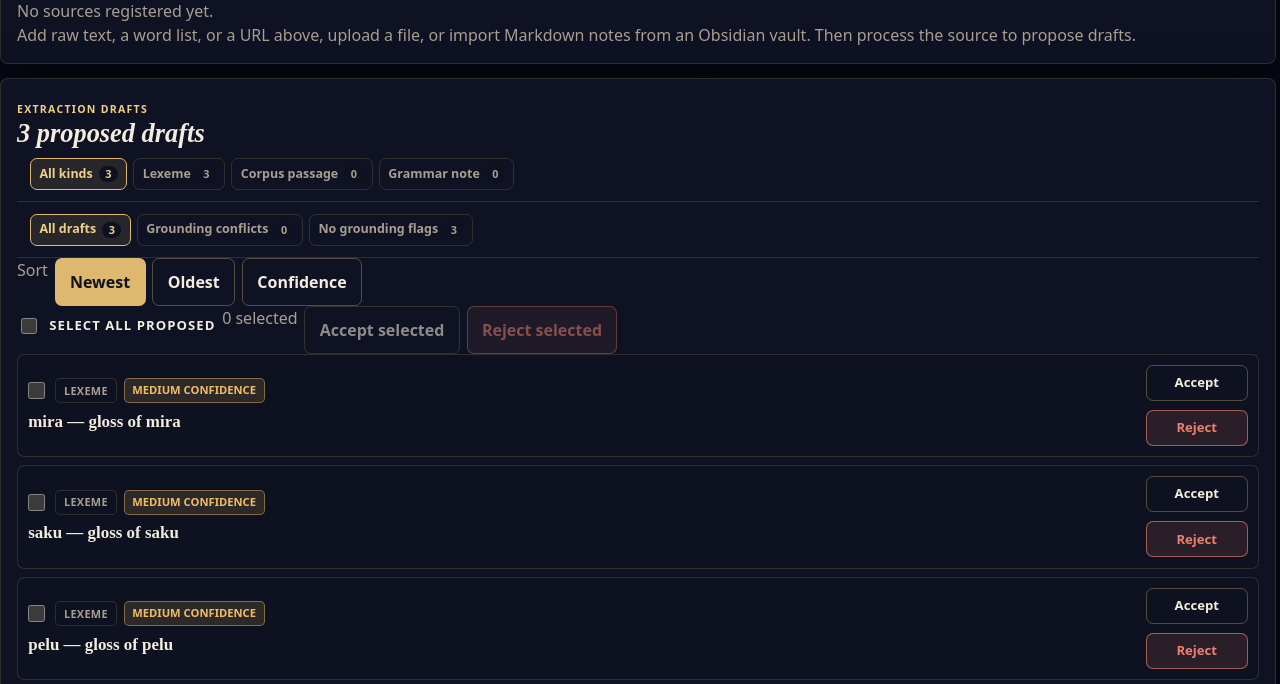
Test case: IngestView bulk draft review › localizes expired-session errors from bulk draft review instead of raw API text
(page scrolled)
Check: the heading "3 proposed drafts" is shown, box [17,119,205,147]
Click the checkbox named "Select draft draft-1": click(37, 391) [28,382,45,399]
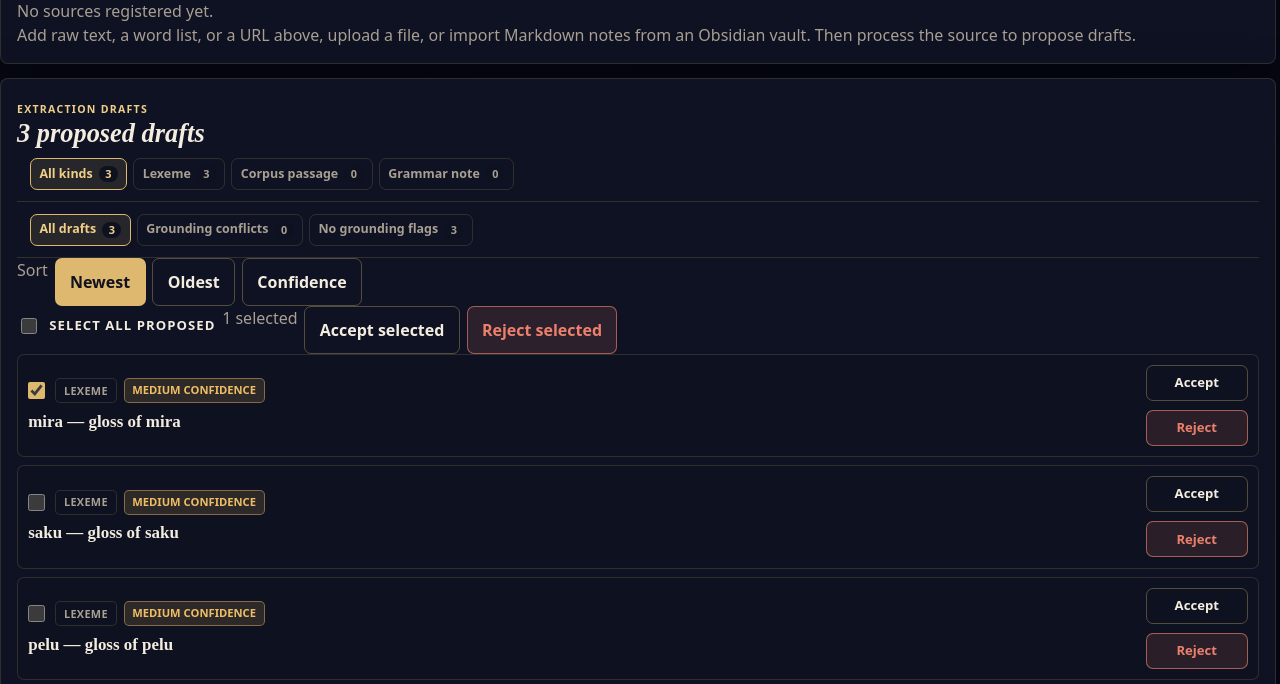
Click the button "Accept selected": click(382, 330) [304,306,460,354]
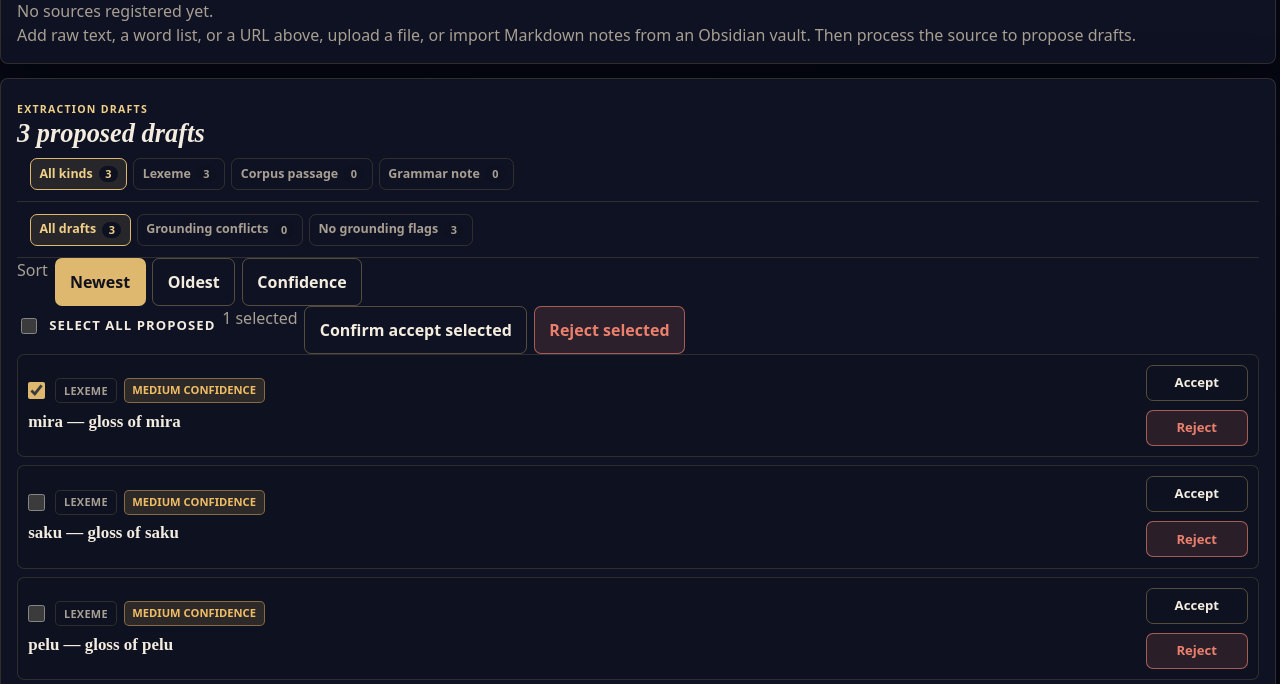
Click the button "Confirm accept selected": click(416, 330) [304,306,527,354]
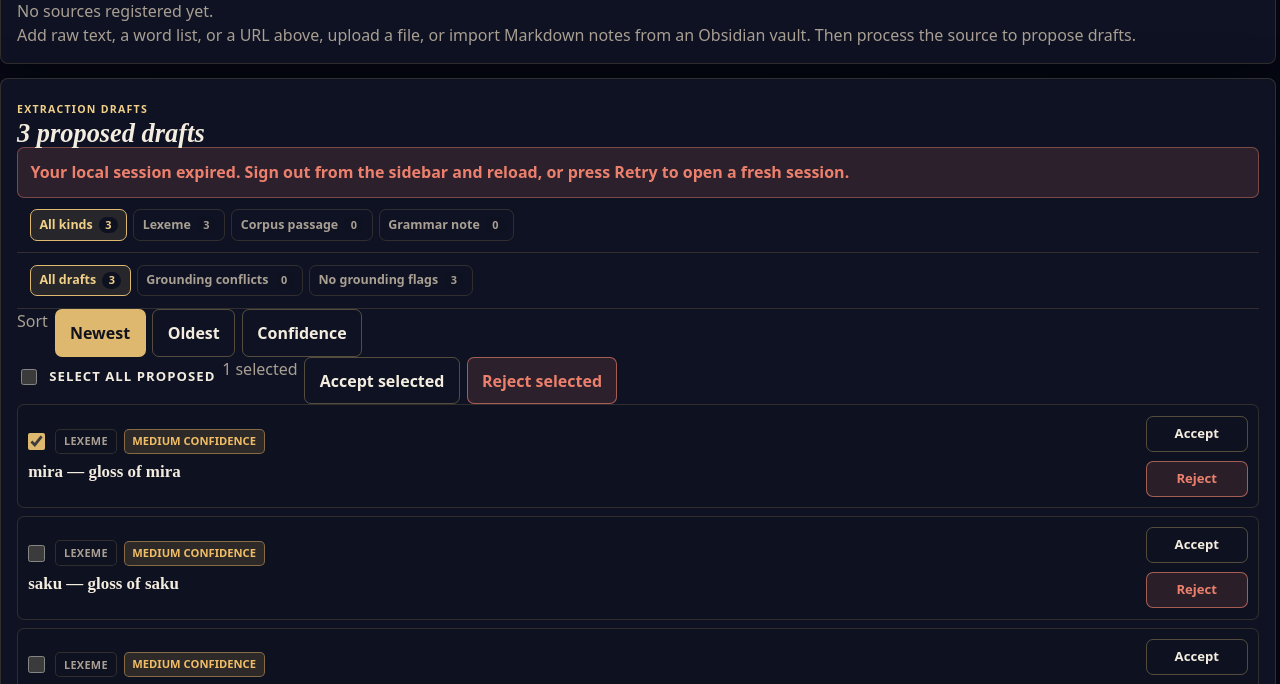
Check: the text "Your local session expired. Sign out from the sidebar and reload, or press Retry to open a fresh session." is shown, box [30,161,849,183]
